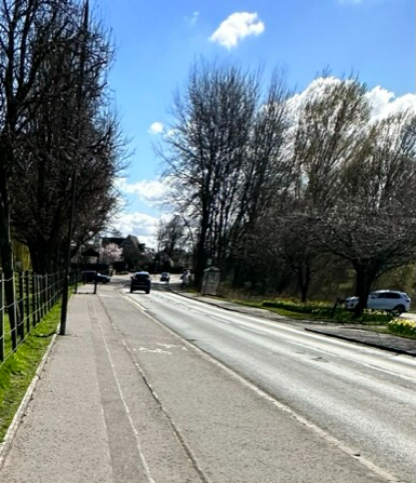car: (330, 289, 416, 320), (73, 266, 115, 287), (129, 264, 156, 295), (160, 270, 172, 283)
tree: (159, 57, 243, 283), (284, 176, 416, 302)
